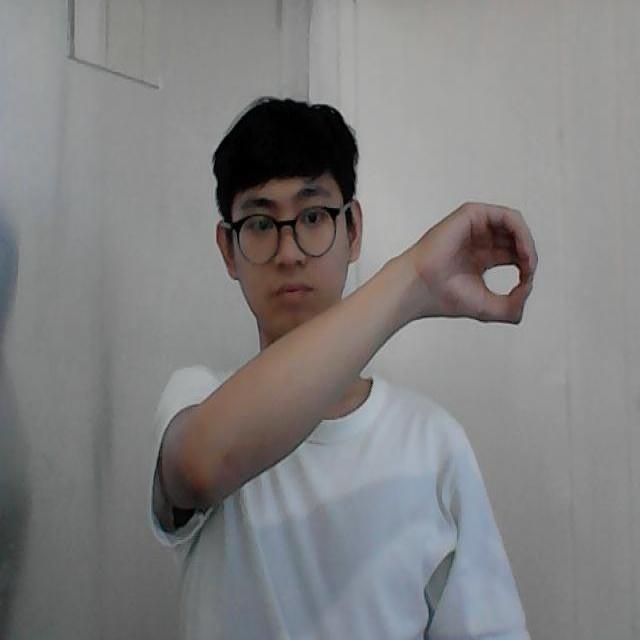O: (430, 189, 546, 333)
